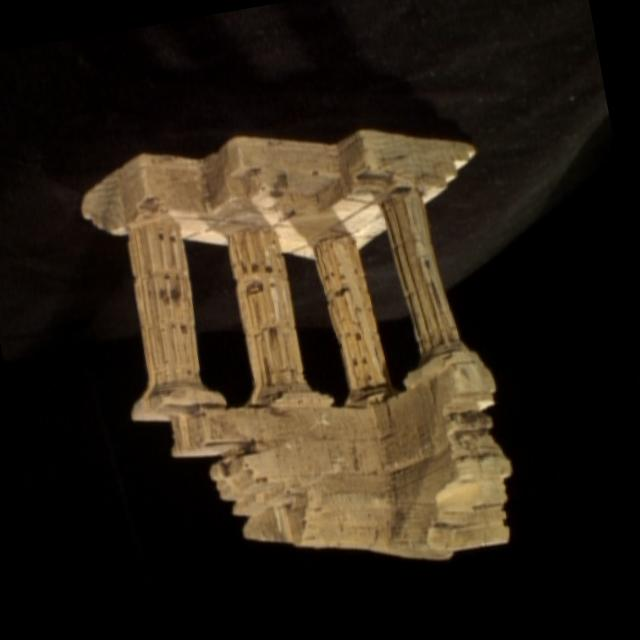Instance-Segmentation: (81, 129, 509, 558)
